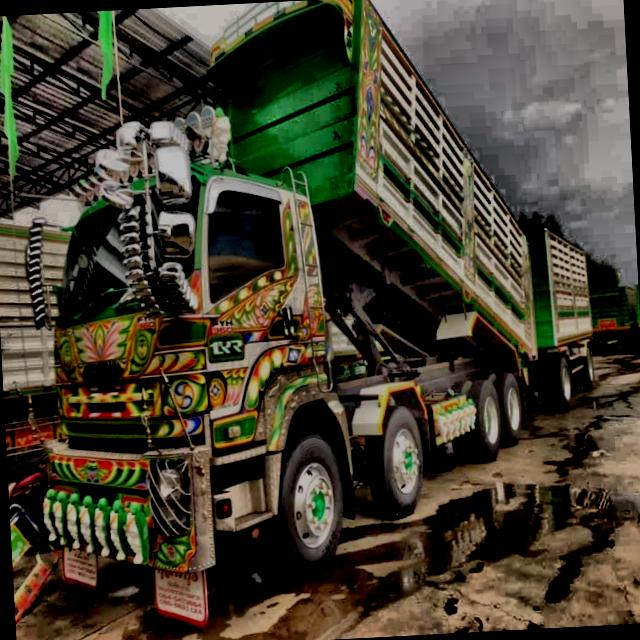trailer: (22, 3, 620, 638)
